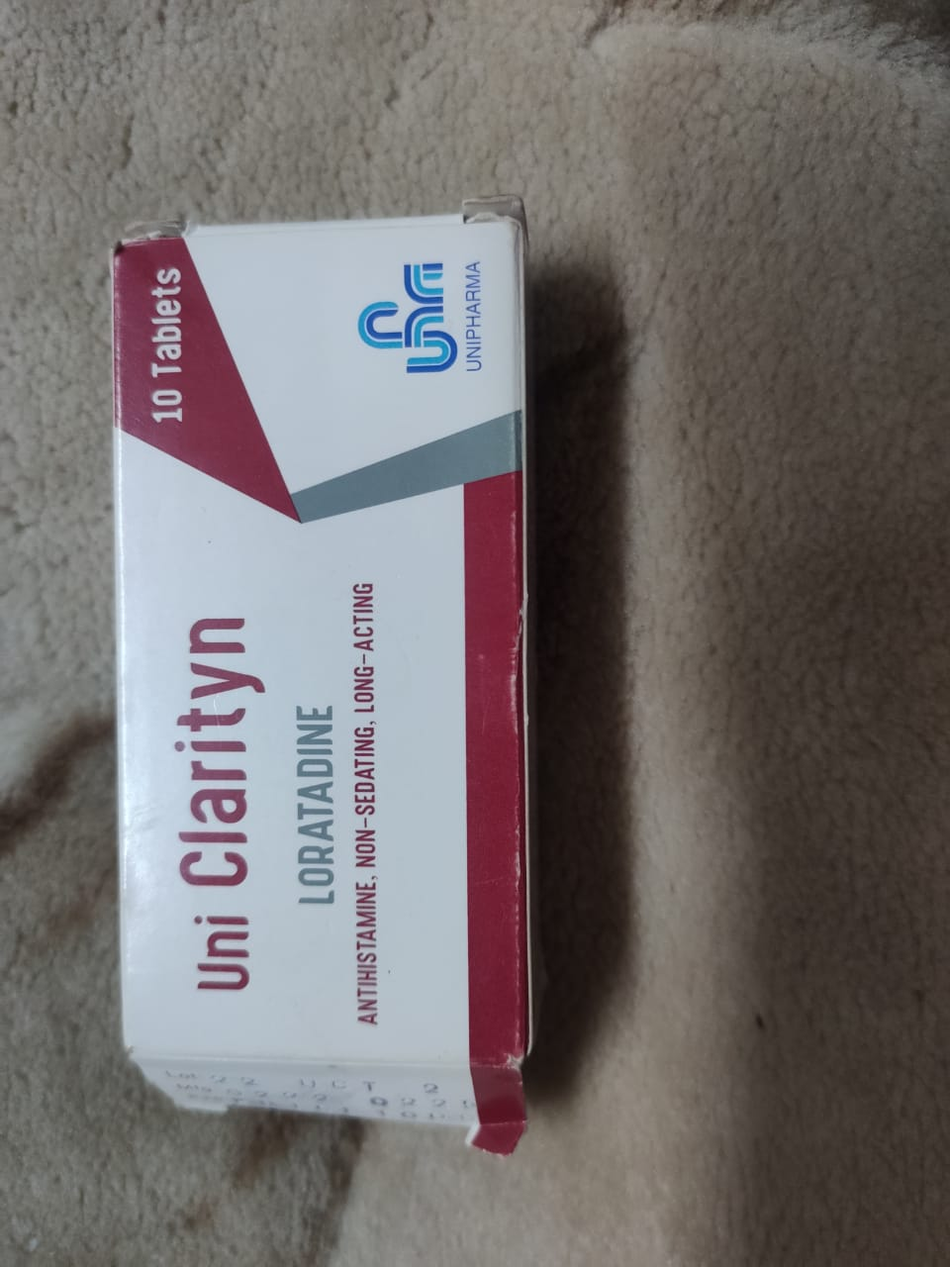Medicine: (89, 201, 541, 1105)
